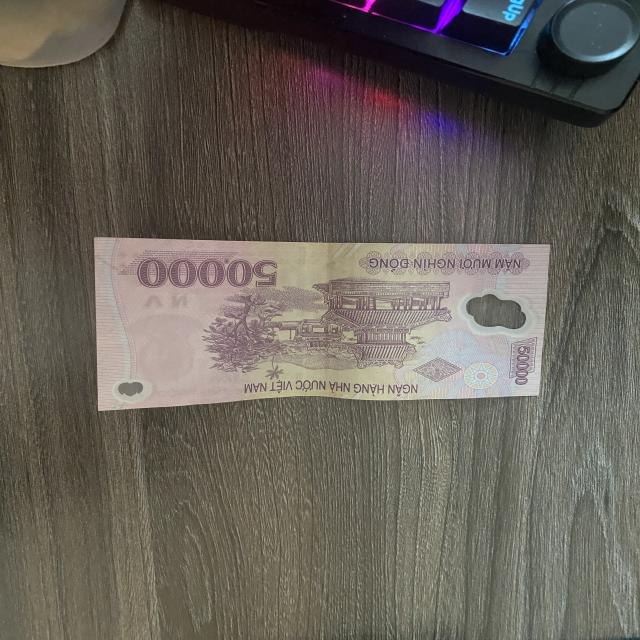50 000 VND: (92, 235, 552, 412)
